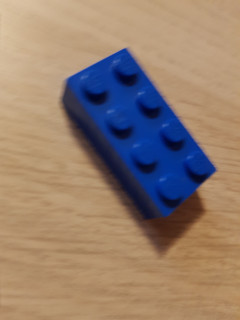1x1 blue: (59, 47, 216, 221)
